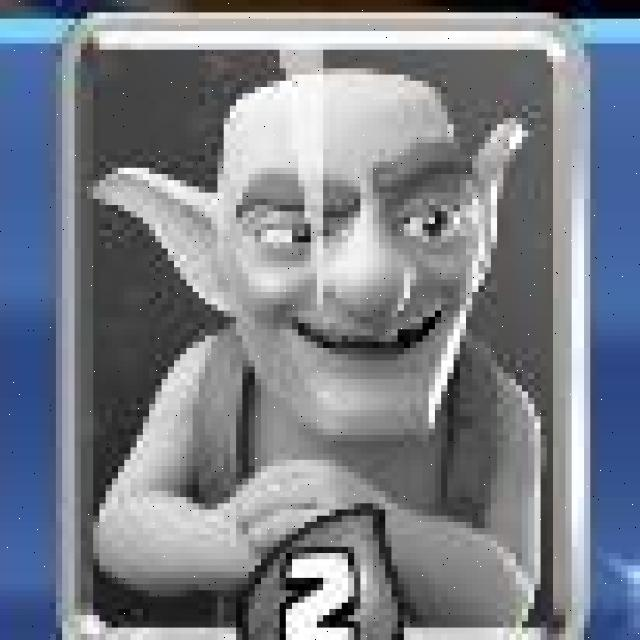Goblins: (56, 14, 584, 640)
